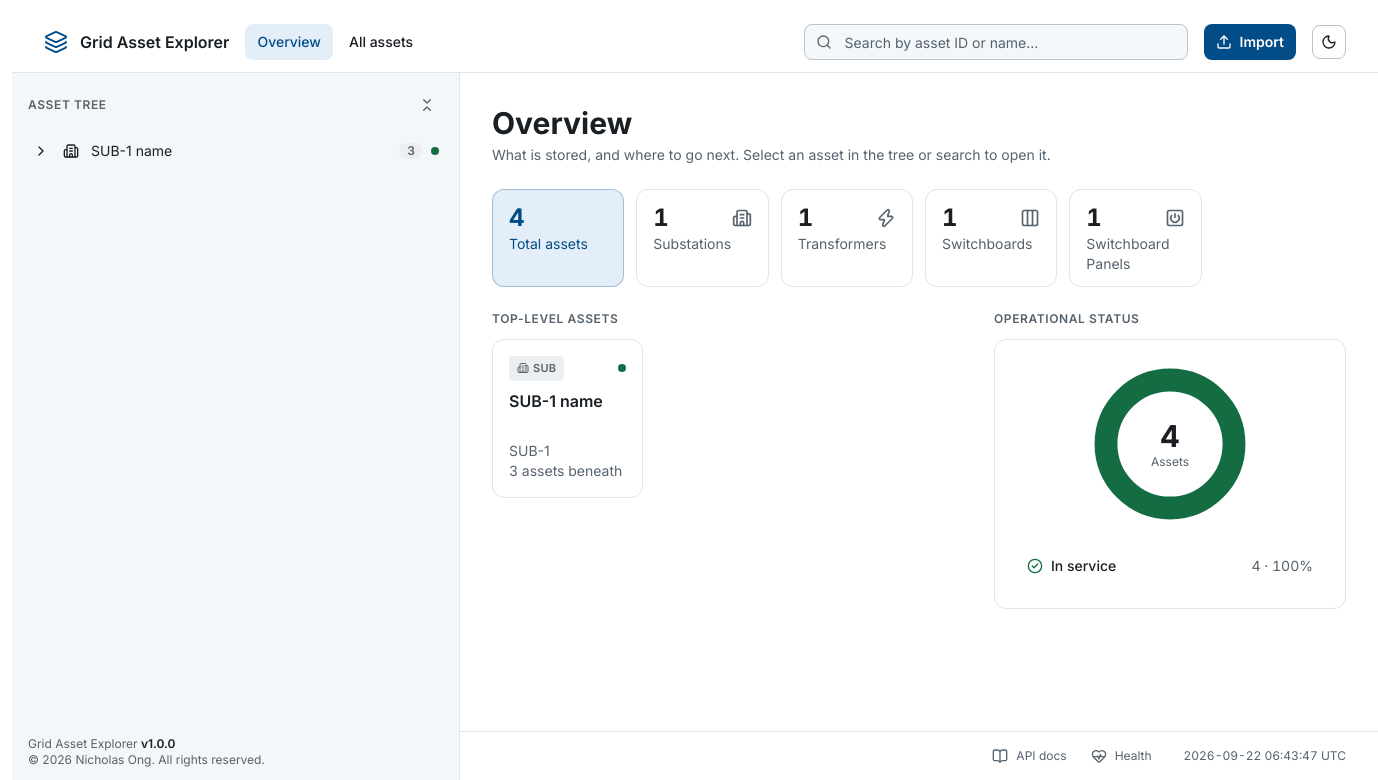
Test: SearchBar › arrow keys move the active option and Escape closes the list
Type "panel" into the dropdown at (996, 42), box [804,24,1188,60]
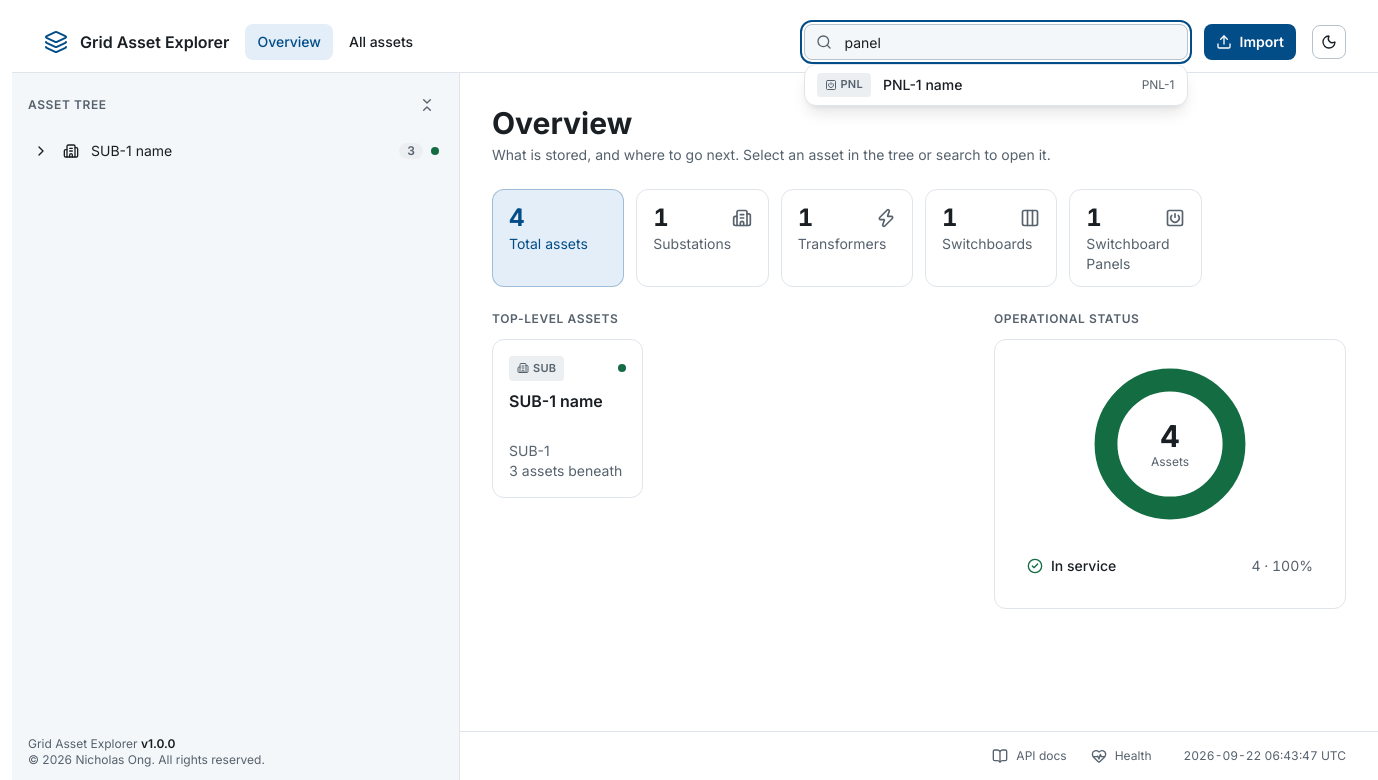
Check: the option "PNL PNL-1 name PNL-1" is shown, box [816,73,1174,97]
Check: the dropdown is expanded, box [804,24,1188,60]
Press Arrowdown
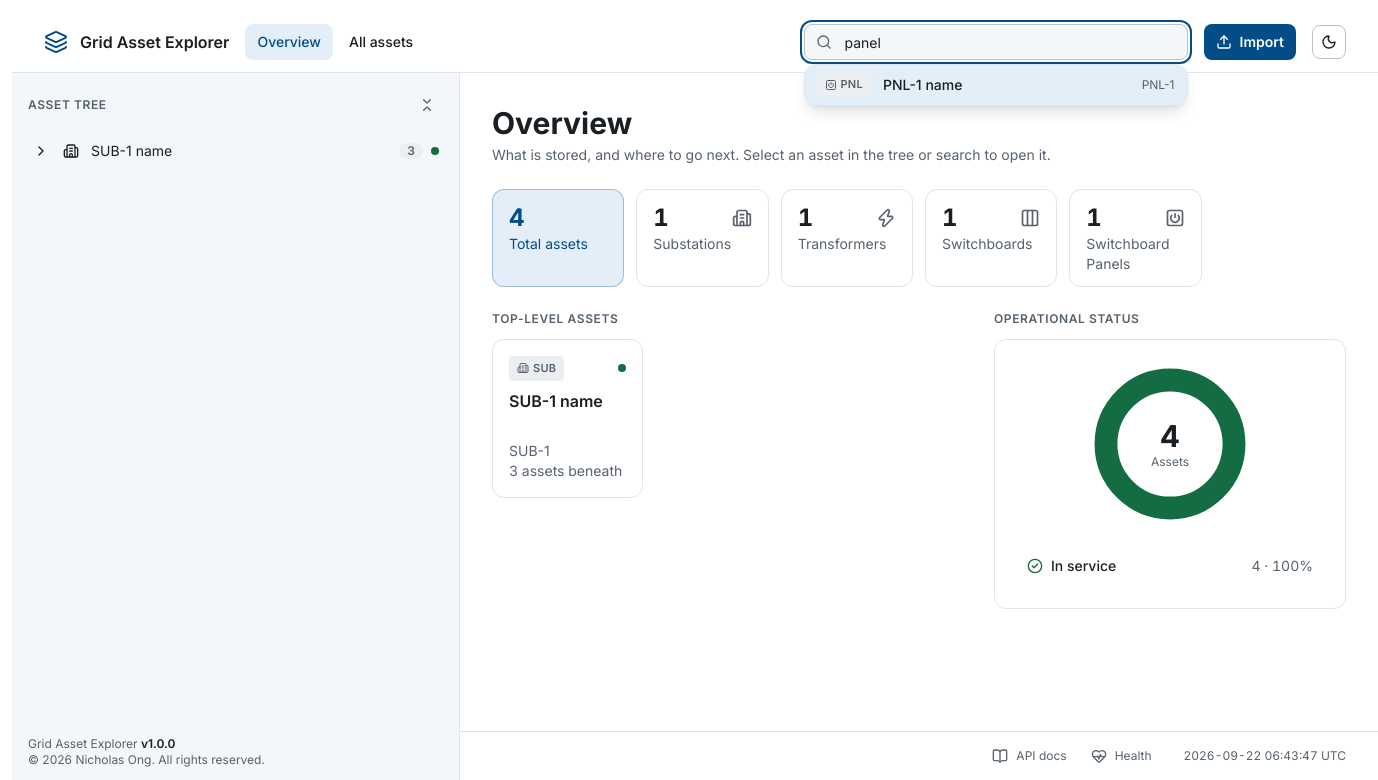
Check: the option is selected, box [804,65,1186,105]
Press Escape
(page scrolled)
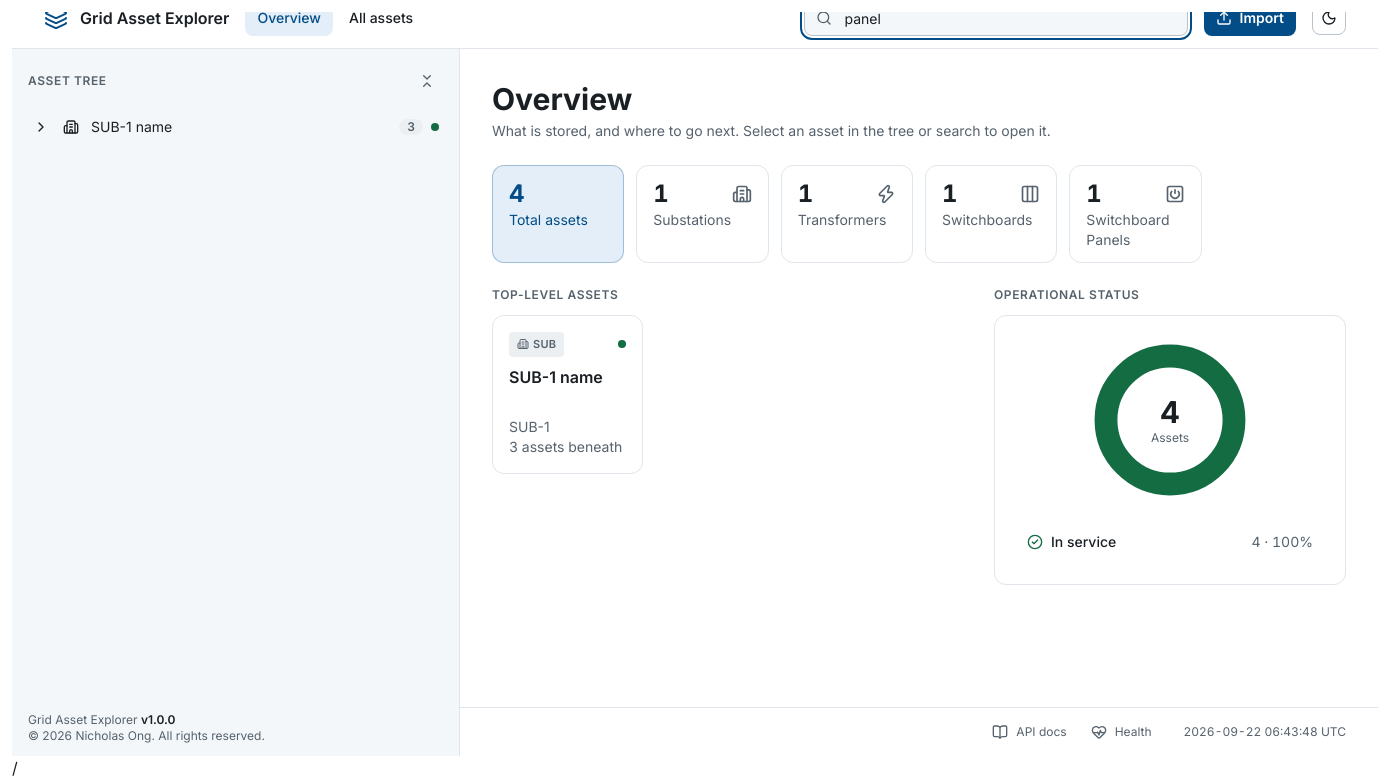
Check: the dropdown is collapsed, box [804,12,1188,36]
Check: the text with test id "location" reads "/", box [12,758,18,778]
